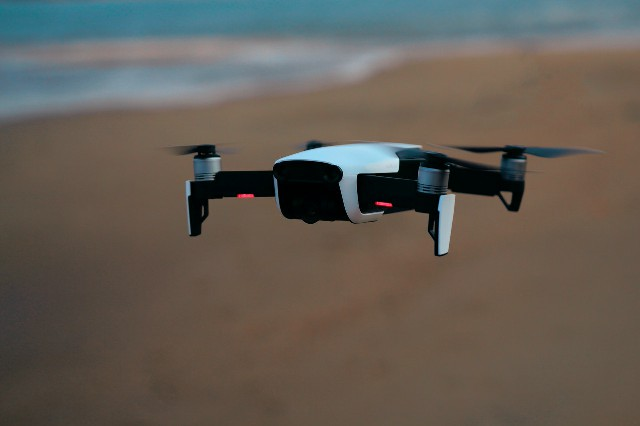maybay_khongnguoilai: (160, 126, 552, 250)
